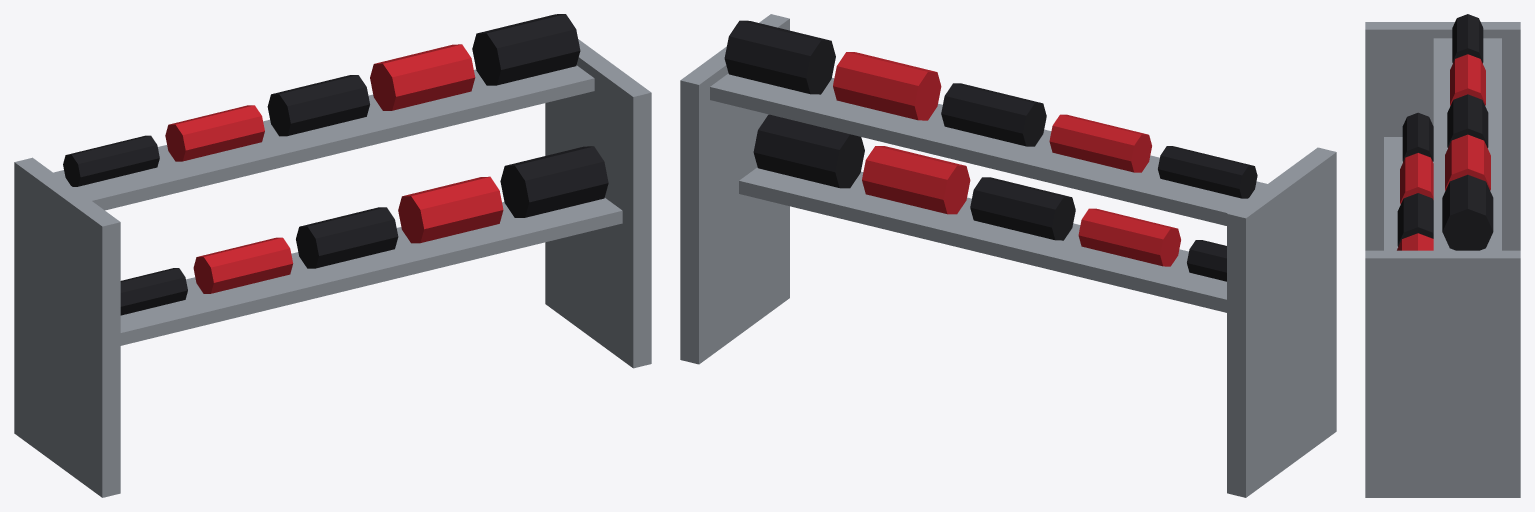
Rendered from gym_dumbbell_rack.glb.
3 views of the same model, side by side, from view 1: azimuth 30°, elevation 25°; view 2: azimuth 150°, elevation 25°; view 3: azimuth 270°, elevation 25° (orthographic). The views are drawn at different scales.
Parts seen in each view (by area): view 1: frame_gym_steel, shelf_gym_steel, bells_gym_black, bells_gym_machine_red; view 2: frame_gym_steel, shelf_gym_steel, bells_gym_black, bells_gym_machine_red; view 3: frame_gym_steel, bells_gym_black, shelf_gym_steel, bells_gym_machine_red.
Boxes of the visible parts, bbox=[...] form: frame_gym_steel: bbox=[14, 39, 651, 497]; shelf_gym_steel: bbox=[26, 65, 622, 351]; bells_gym_black: bbox=[63, 14, 608, 315]; bells_gym_machine_red: bbox=[165, 44, 503, 293]; frame_gym_steel: bbox=[680, 14, 1336, 497]; shelf_gym_steel: bbox=[710, 73, 1325, 326]; bells_gym_black: bbox=[724, 20, 1257, 281]; bells_gym_machine_red: bbox=[833, 52, 1180, 266]; frame_gym_steel: bbox=[1365, 22, 1520, 497]; bells_gym_black: bbox=[1397, 14, 1493, 250]; shelf_gym_steel: bbox=[1384, 38, 1501, 376]; bells_gym_machine_red: bbox=[1397, 54, 1490, 250].
Size of the model in its own units: 1.8 by 0.984 by 0.5.
